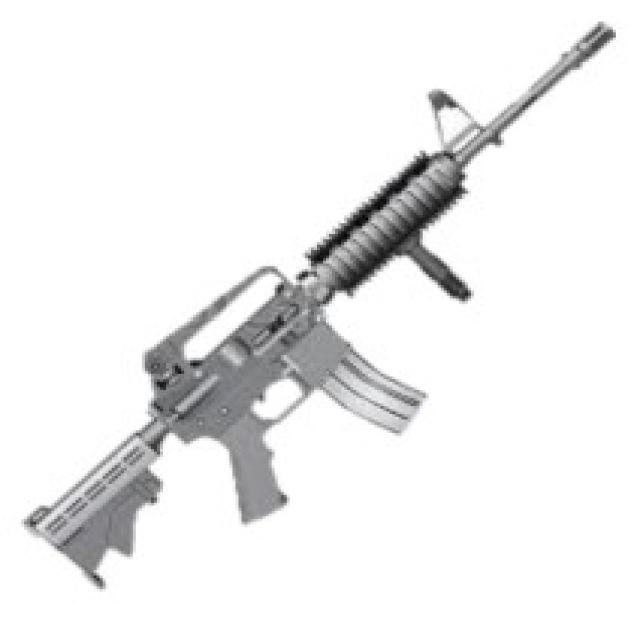rifle: (27, 16, 622, 605)
